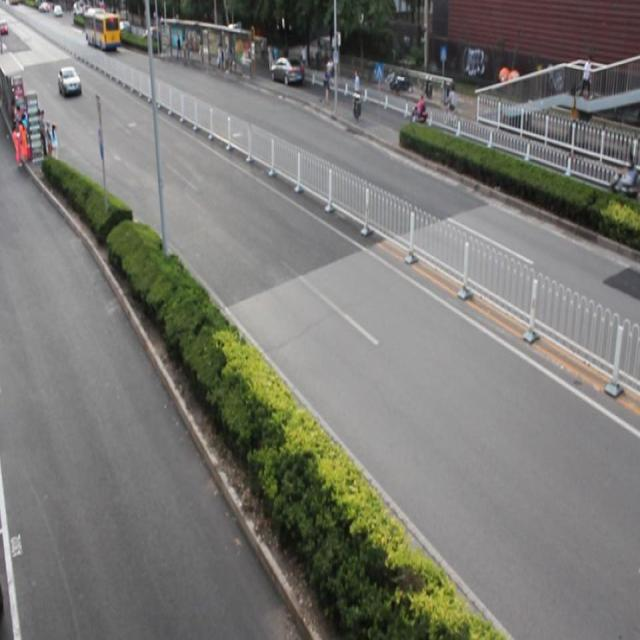car: (270, 52, 302, 84)
